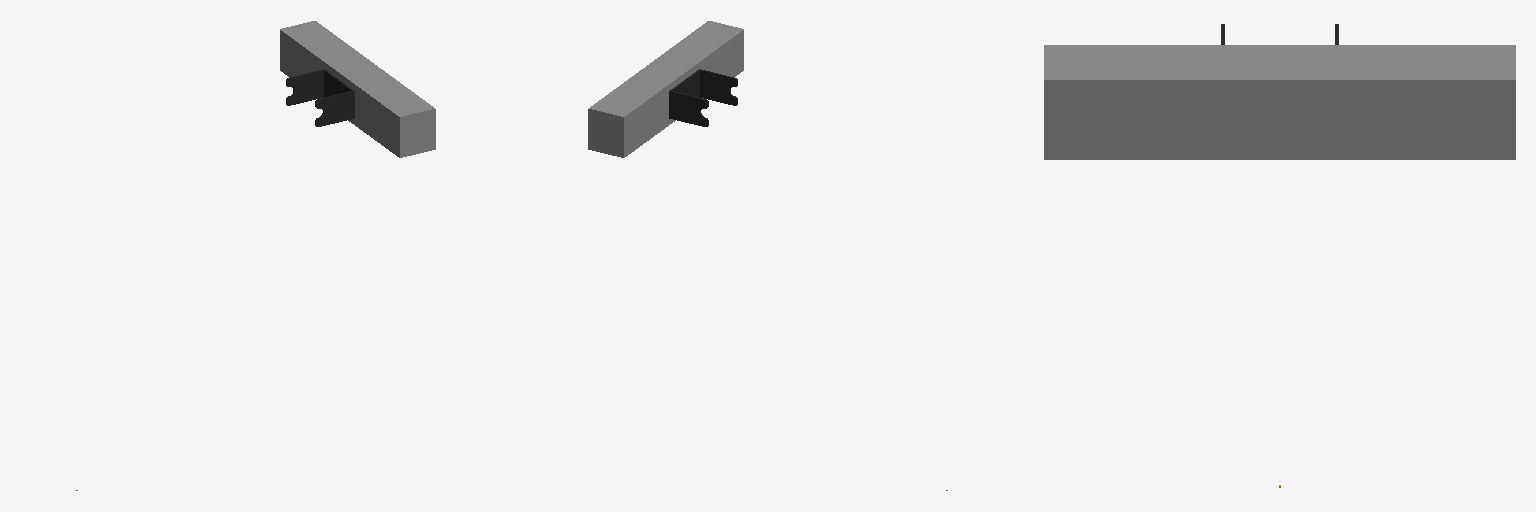
The robot description file, URDF, robot "shutter":
<?xml version="1.0" encoding="utf-8"?>
<!-- =================================================================================== -->
<!-- |    This document was autogenerated by xacro from shutter.v.0.1.xacro            | -->
<!-- |    EDITING THIS FILE BY HAND IS NOT RECOMMENDED                                 | -->
<!-- =================================================================================== -->
<robot name="shutter" xmlns:xacro="http://ros.org/wiki/xacro">
  <transmission name="tran1">
    <type>transmission_interface/SimpleTransmission</type>
    <joint name="joint_1"/>
    <actuator name="motor1">
      <hardwareInterface>EffortJointInterface</hardwareInterface>
      <mechanicalReduction>1</mechanicalReduction>
    </actuator>
  </transmission>
  <transmission name="tran2">
    <type>transmission_interface/SimpleTransmission</type>
    <joint name="joint_2"/>
    <actuator name="motor2">
      <hardwareInterface>EffortJointInterface</hardwareInterface>
      <mechanicalReduction>1</mechanicalReduction>
    </actuator>
  </transmission>
  <transmission name="tran3">
    <type>transmission_interface/SimpleTransmission</type>
    <joint name="joint_3"/>
    <actuator name="motor3">
      <hardwareInterface>EffortJointInterface</hardwareInterface>
      <mechanicalReduction>1</mechanicalReduction>
    </actuator>
  </transmission>
  <transmission name="tran4">
    <type>transmission_interface/SimpleTransmission</type>
    <joint name="joint_4"/>
    <actuator name="motor4">
      <hardwareInterface>EffortJointInterface</hardwareInterface>
      <mechanicalReduction>1</mechanicalReduction>
    </actuator>
  </transmission>
  <link name="base_footprint">
    <visual>
      <origin rpy="0 0 0" xyz="0 0 0"/>
      <geometry>
        <box size="0.001 0.001 0.001"/>
      </geometry>
    </visual>
  </link>
  <!-- links -->
  <link name="base_link">
    <visual>
      <origin rpy="0 0 0" xyz="0 0 0"/>
      <geometry>
        <mesh filename="package://shutter_description/meshes/base_link.stl"/>
      </geometry>
      <material name="">
        <color rgba="0.2 0.2 0.2 1.0"/>
      </material>
    </visual>
    <collision>
      <origin rpy="0 0 0" xyz="0 0 0"/>
      <geometry>
        <mesh filename="package://shutter_description/meshes/base_link.stl"/>
      </geometry>
    </collision>
    <inertial>
      <origin rpy="0 0 0" xyz="0 0 0"/>
      <mass value="1"/>
      <inertia ixx="1.0" ixy="0.0" ixz="0.0" iyy="1.0" iyz="0.0" izz="1.0"/>
    </inertial>
  </link>
  <link name="shoulder_link">
    <visual>
      <origin rpy="0 0 0" xyz="0 0 0"/>
      <geometry>
        <mesh filename="package://shutter_description/meshes/shoulder_link.stl"/>
      </geometry>
      <material name="">
        <color rgba="0.2 0.2 0.2 1.0"/>
      </material>
    </visual>
    <collision>
      <origin rpy="0 0 0" xyz="0 0 0"/>
      <geometry>
        <mesh filename="package://shutter_description/meshes/shoulder_link.stl"/>
      </geometry>
    </collision>
    <inertial>
      <origin rpy="0 0 0" xyz="0 0 0"/>
      <mass value="1"/>
      <inertia ixx="1.0" ixy="0.0" ixz="0.0" iyy="1.0" iyz="0.0" izz="1.0"/>
    </inertial>
  </link>
  <link name="biceps_link">
    <visual>
      <origin rpy="0 0 0" xyz="0 0 0"/>
      <geometry>
        <mesh filename="package://shutter_description/meshes/biceps_link.new.stl"/>
      </geometry>
      <material name="">
        <color rgba="0.2 0.2 0.2 1.0"/>
      </material>
    </visual>
    <collision>
      <origin rpy="0 0 0" xyz="0 0 0"/>
      <geometry>
        <mesh filename="package://shutter_description/meshes/biceps_link.new.stl"/>
      </geometry>
    </collision>
    <inertial>
      <origin rpy="0 0 0" xyz="0 0 0"/>
      <mass value="1"/>
      <inertia ixx="1.0" ixy="0.0" ixz="0.0" iyy="1.0" iyz="0.0" izz="1.0"/>
    </inertial>
  </link>
  <link name="forearm_link">
    <visual>
      <origin rpy="0 0 0" xyz="0 0 0"/>
      <geometry>
        <mesh filename="package://shutter_description/meshes/forearm_link.new.stl"/>
      </geometry>
      <material name="">
        <color rgba="0.2 0.2 0.2 1.0"/>
      </material>
    </visual>
    <collision>
      <origin rpy="0 0 0" xyz="0 0 0"/>
      <geometry>
        <mesh filename="package://shutter_description/meshes/forearm_link.new.stl"/>
      </geometry>
    </collision>
    <inertial>
      <origin rpy="0 0 0" xyz="0 0 0"/>
      <mass value="1"/>
      <inertia ixx="1.0" ixy="0.0" ixz="0.0" iyy="1.0" iyz="0.0" izz="1.0"/>
    </inertial>
  </link>
  <link name="wrist_link">
    <visual>
      <origin rpy="0 0 0" xyz="0 0 0"/>
      <geometry>
        <mesh filename="package://shutter_description/meshes/wrist_link_no_motor.stl"/>
      </geometry>
      <material name="">
        <color rgba="0.2 0.2 0.2 1.0"/>
      </material>
    </visual>
    <collision>
      <origin rpy="0 0 0" xyz="0 0 0"/>
      <geometry>
        <mesh filename="package://shutter_description/meshes/wrist_link_no_motor.stl"/>
      </geometry>
    </collision>
    <inertial>
      <origin rpy="0 0 0" xyz="0 0 0"/>
      <mass value="1"/>
      <inertia ixx="1.0" ixy="0.0" ixz="0.0" iyy="1.0" iyz="0.0" izz="1.0"/>
    </inertial>
  </link>
  <!-- joints -->
  <joint name="arm_base_joint" type="fixed">
    <origin rpy="0.0 0.0 0.0" xyz="0.0 0.0 0.0"/>
    <parent link="base_footprint"/>
    <child link="base_link"/>
  </joint>
  <joint name="joint_1" type="revolute">
    <origin rpy="0 0 0" xyz="0 0 0.125"/>
    <parent link="base_link"/>
    <child link="shoulder_link"/>
    <axis xyz="0 0 1"/>
    <limit effort="6" lower="-2.617" upper="2.617" velocity="0.785"/>
  </joint>
  <joint name="joint_2" type="revolute">
    <!--origin xyz="0.04825 0 0.14203" rpy="0 0 0" /-->
    <origin rpy="0 0 0" xyz="0 0 0"/>
    <parent link="shoulder_link"/>
    <child link="biceps_link"/>
    <axis xyz="0 1 0"/>
    <limit effort="6" lower="-1.571" upper="1.571" velocity="1.571"/>
  </joint>
  <joint name="joint_3" type="revolute">
    <origin rpy="0 1.570795 0" xyz="0.04825 0 0.14203"/>
    <parent link="biceps_link"/>
    <child link="forearm_link"/>
    <axis xyz="0 1 0"/>
    <limit effort="6" lower="-1.571" upper="1.571" velocity="1.571"/>
  </joint>
  <joint name="joint_4" type="revolute">
    <origin rpy="0 0 0" xyz="0 0 0.14203"/>
    <parent link="forearm_link"/>
    <child link="wrist_link"/>
    <axis xyz="0 1 0"/>
    <limit effort="6" lower="-1.571" upper="1.571" velocity="1.571"/>
  </joint>
  <link name="zed_camera_link">
    <inertial>
      <mass value="1e-5"/>
      <origin rpy="0 0 0" xyz="0 0 0"/>
      <inertia ixx="1e-6" ixy="0" ixz="0" iyy="1e-6" iyz="0" izz="1e-6"/>
    </inertial>
    <collision>
      <origin rpy="0 0 0" xyz="0 0 0"/>
      <geometry>
        <box size="0.033 0.175 0.030"/>
      </geometry>
    </collision>
    <visual>
      <origin rpy="0 0 0" xyz="0 0 0"/>
      <geometry>
        <box size="0.033 0.175 0.030"/>
      </geometry>
      <material name="camera_black">
        <color rgba="0.6 0.6 0.6 1"/>
      </material>
    </visual>
  </link>
  <joint name="zed_camera_joint" type="fixed">
    <origin rpy="0 0 0" xyz="0 0 0.045"/>
    <parent link="wrist_link"/>
    <child link="zed_camera_link"/>
  </joint>
  <!-- zed camera lenses -->
  <!-- It seems these have to have a non-zero mass to have a camera attached? -->
  <link name="camera_link">
    <inertial>
      <mass value="1e-5"/>
      <origin rpy="0 0 0" xyz="0 0 0"/>
      <inertia ixx="1e-6" ixy="0" ixz="0" iyy="1e-6" iyz="0" izz="1e-6"/>
    </inertial>
  </link>
  <link name="zed_camera_right_link">
    <inertial>
      <mass value="1e-5"/>
      <origin rpy="0 0 0" xyz="0 0 0"/>
      <inertia ixx="1e-6" ixy="0" ixz="0" iyy="1e-6" iyz="0" izz="1e-6"/>
    </inertial>
  </link>
  <joint name="zed_camera_left_joint" type="fixed">
    <origin rpy="0 0 0" xyz="0 0.06 0"/>
    <parent link="zed_camera_link"/>
    <child link="camera_link"/>
    <axis xyz="0 0 1"/>
  </joint>
  <joint name="zed_camera_right_joint" type="fixed">
    <origin rpy="0 0 0" xyz="0 -0.06 0"/>
    <parent link="zed_camera_link"/>
    <child link="zed_camera_right_link"/>
    <axis xyz="0 0 1"/>
  </joint>
  <!-- gazebo -->
  <gazebo reference="camera_link">
    <sensor name="zed_camera_left_sensor" type="camera">
      <update_rate>30.0</update_rate>
      <!-- math.atan(320 / 687.8065795898438) * 2 -->
      <camera name="zed_camera_left_camera">
        <horizontal_fov>0.8709216071359963</horizontal_fov>
        <image>
          <width>640</width>
          <height>480</height>
          <format>B8G8R8</format>
        </image>
        <clip>
          <near>0.02</near>
          <far>300</far>
        </clip>
        <noise>
          <type>gaussian</type>
          <mean>0.0</mean>
          <stddev>0.007</stddev>
        </noise>
      </camera>
      <plugin filename="libgazebo_ros_camera.so" name="camera_controller">
        <alwaysOn>true</alwaysOn>
        <updateRate>30.0</updateRate>
        <cameraName>/camera/zed</cameraName>
        <imageTopicName>rgb/image_rect_color</imageTopicName>
        <cameraInfoTopicName>rgb/camera_info</cameraInfoTopicName>
        <frameName>camera_link</frameName>
        <hackBaseline>0</hackBaseline>
        <!-- set this to 0.12 for the second camera -->
        <distortionK1>0.0</distortionK1>
        <distortionK2>0.0</distortionK2>
        <distortionK3>0.0</distortionK3>
        <distortionT1>0.0</distortionT1>
        <distortionT2>0.0</distortionT2>
      </plugin>
    </sensor>
  </gazebo>
</robot>

--- What the picture shows (computed from the rendered views, not written in the file) ---
3 views of the same robot in one strip: view 1: azimuth 30°, elevation 25°; view 2: azimuth 150°, elevation 25°; view 3: azimuth 270°, elevation 25° (orthographic).
Robot: shutter — 9 links, 8 joints (4 revolute, 4 fixed); root link base_footprint; default pose: all joints at 0.
Links seen in each view (by area): view 1: zed_camera_link, wrist_link; view 2: zed_camera_link, wrist_link; view 3: zed_camera_link.
Boxes of the visible links, x1=… form: zed_camera_link: x1=280, y1=21, x2=435, y2=157; wrist_link: x1=286, y1=69, x2=354, y2=126; zed_camera_link: x1=588, y1=21, x2=743, y2=157; wrist_link: x1=669, y1=69, x2=737, y2=126; zed_camera_link: x1=1044, y1=45, x2=1515, y2=159.
Size in the robot's own frame: 0.2508 by 0.175 by 0.284 metres.
1 mesh visuals loaded from 5 distinct referenced files (1 binary STL); not drawn: 4 (reference not matched to a file when rendering).